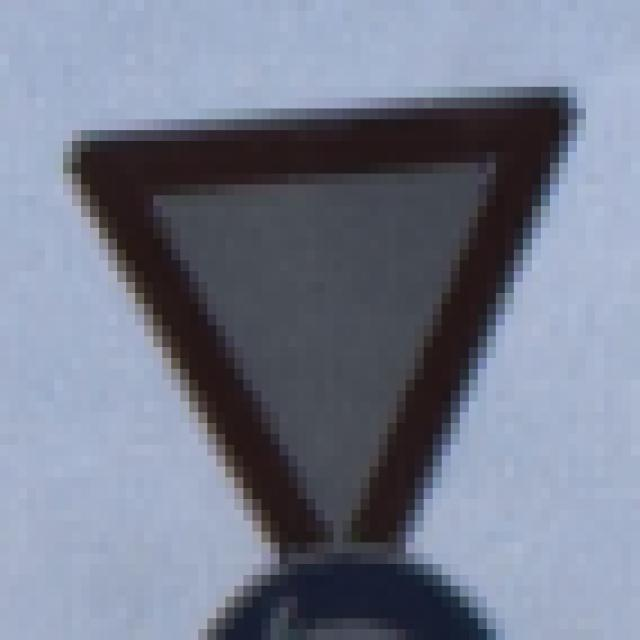Give Way: (64, 66, 587, 587)
